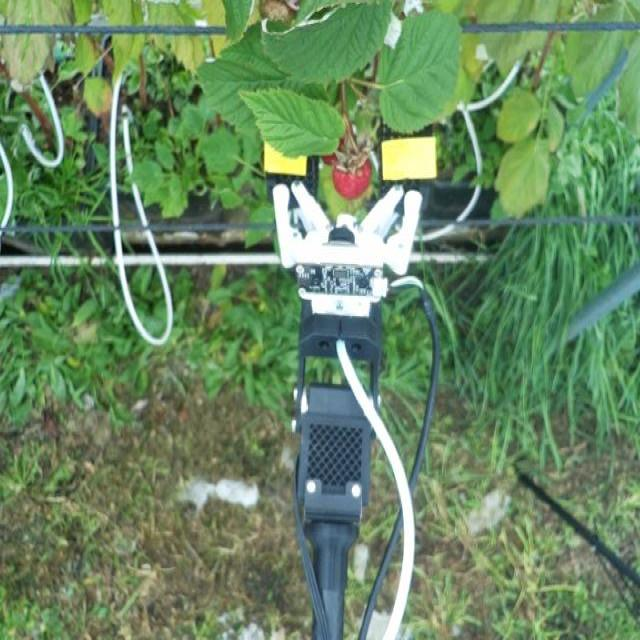Riped berries: (328, 148, 373, 201)
